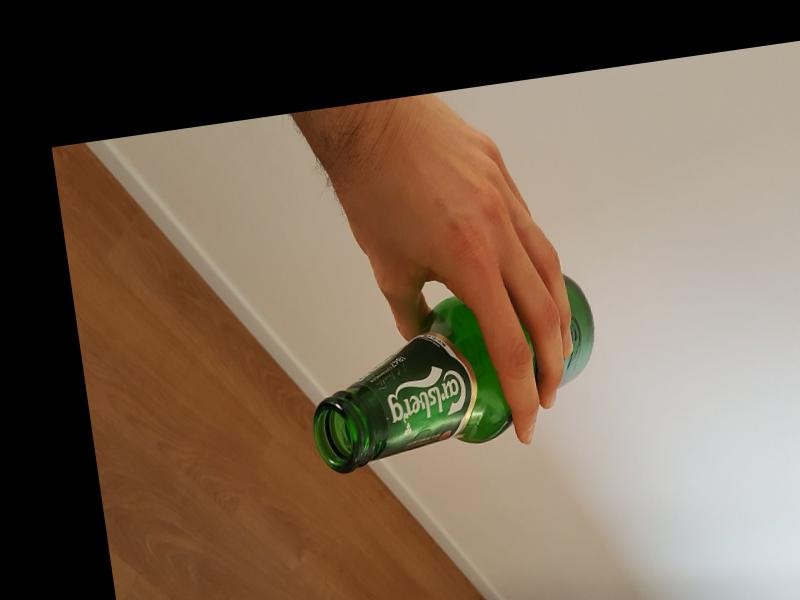Beer: (296, 277, 608, 475)
